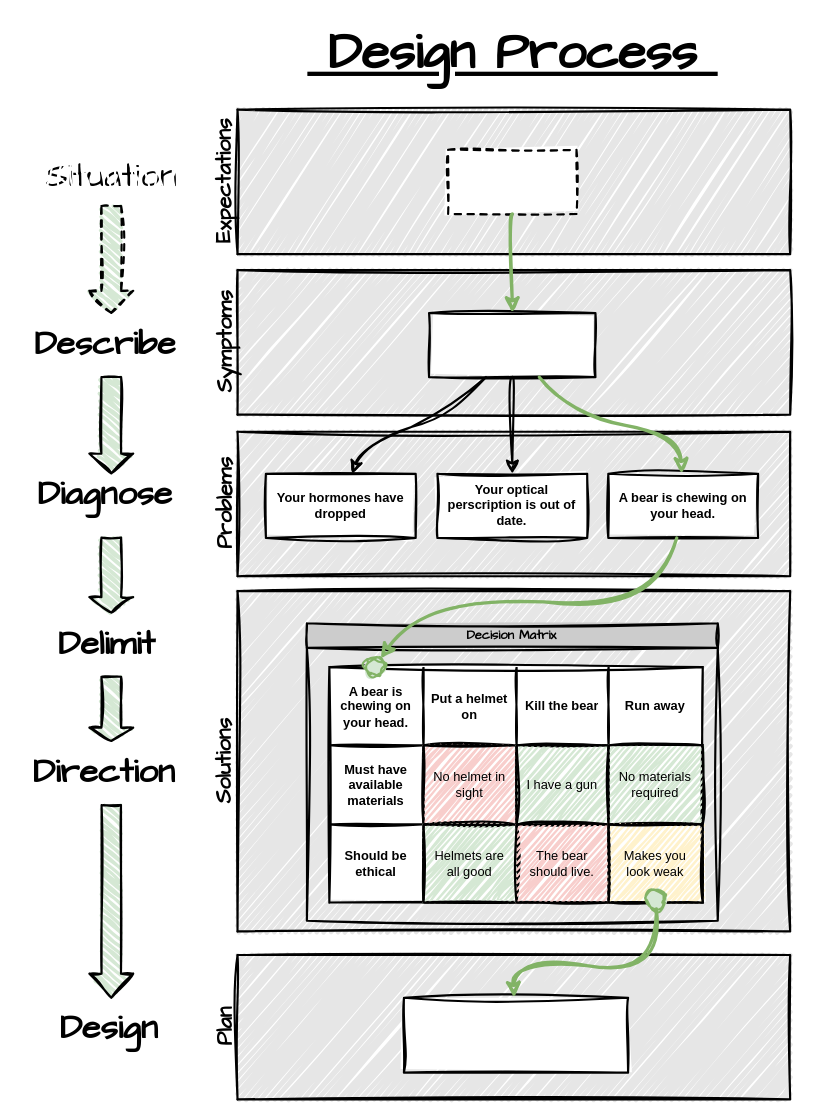
The diagram is 830 pixels wide and 1119 high, and some of its shapes have lost their labels. The shapes that lost their labels are listed below. From the top down, each one's centre as x and y in pixels, then its label:
At (512,181): "I don't want to feel pain".
At (511,344): "My head hurts. I have a headache".
At (515,1034): "1. Remove head from mouth 2. Run in the opposite direction 3. Find a doctor".
